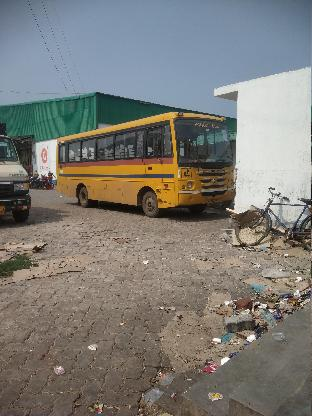bus: (57, 113, 236, 217)
